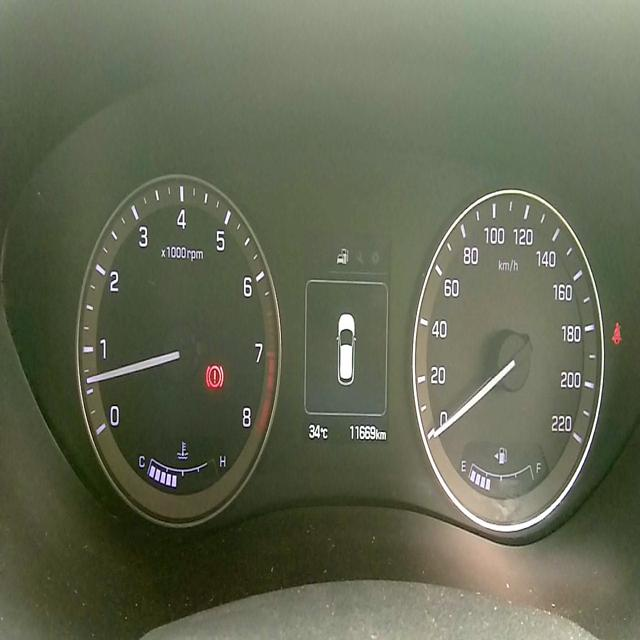odometer: (348, 420, 377, 444)
